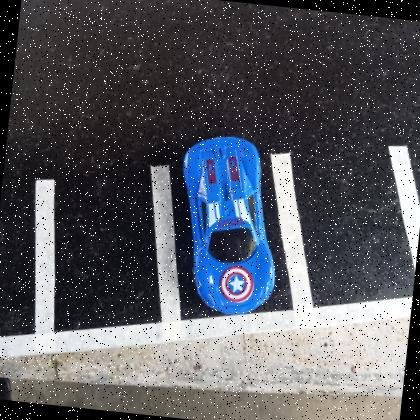Car: (181, 136, 275, 316)
